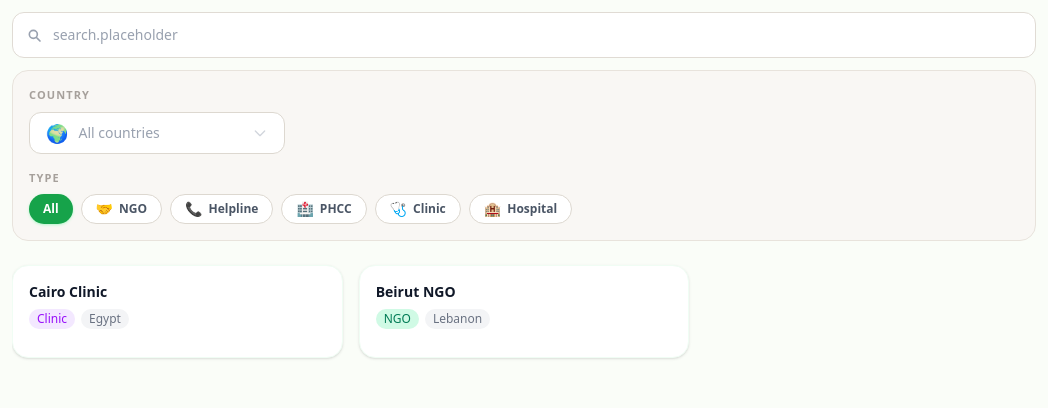
Test: ResourceGrid filtering › filters by search text
The image size is (1048, 408).
In the search field: (524, 35) [12,12,1036,58], type "Cairo"
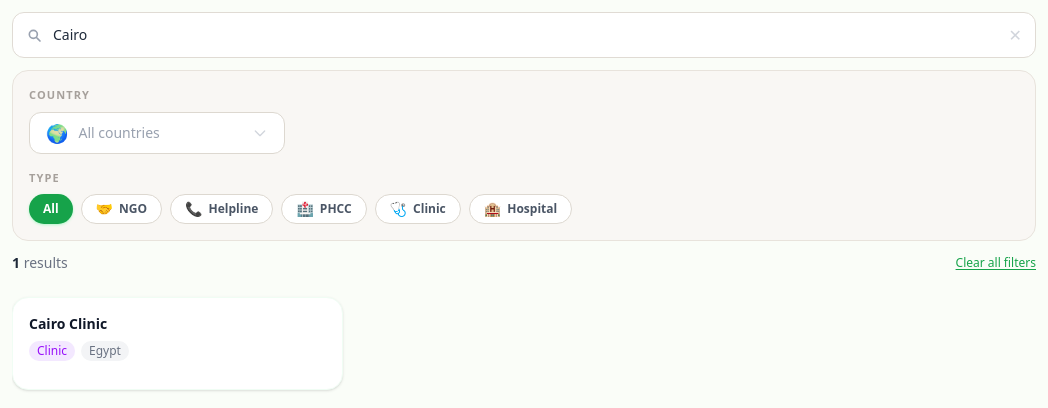
expect the heading "Cairo Clinic" is shown: met, box [29,314,107,333]
expect the link "Beirut NGO" is gone: met
